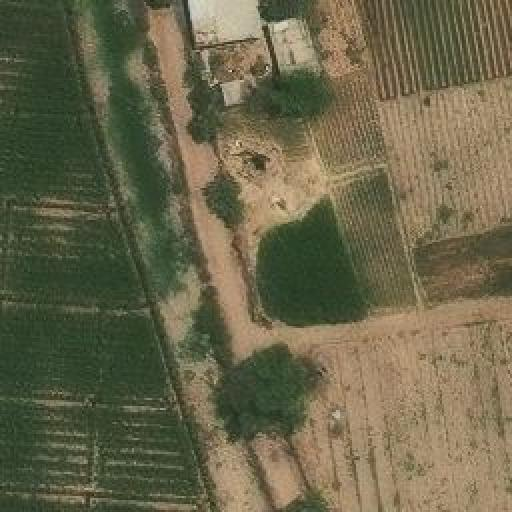manzanas: (180, 1, 335, 124)
